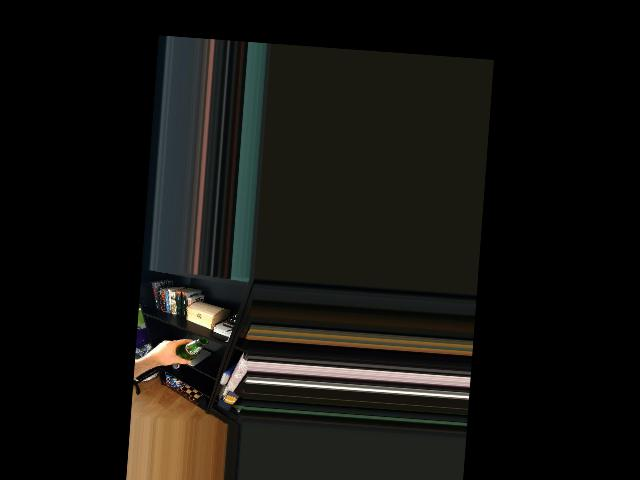beer: (172, 335, 208, 366)
